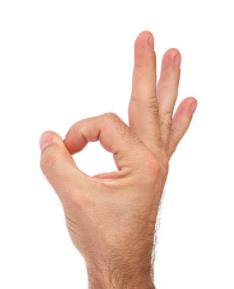left: (36, 26, 200, 278)
